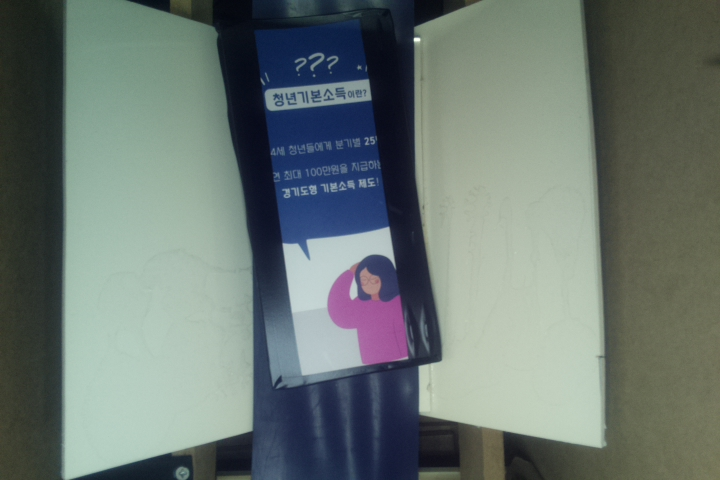book: (216, 1, 448, 393)
